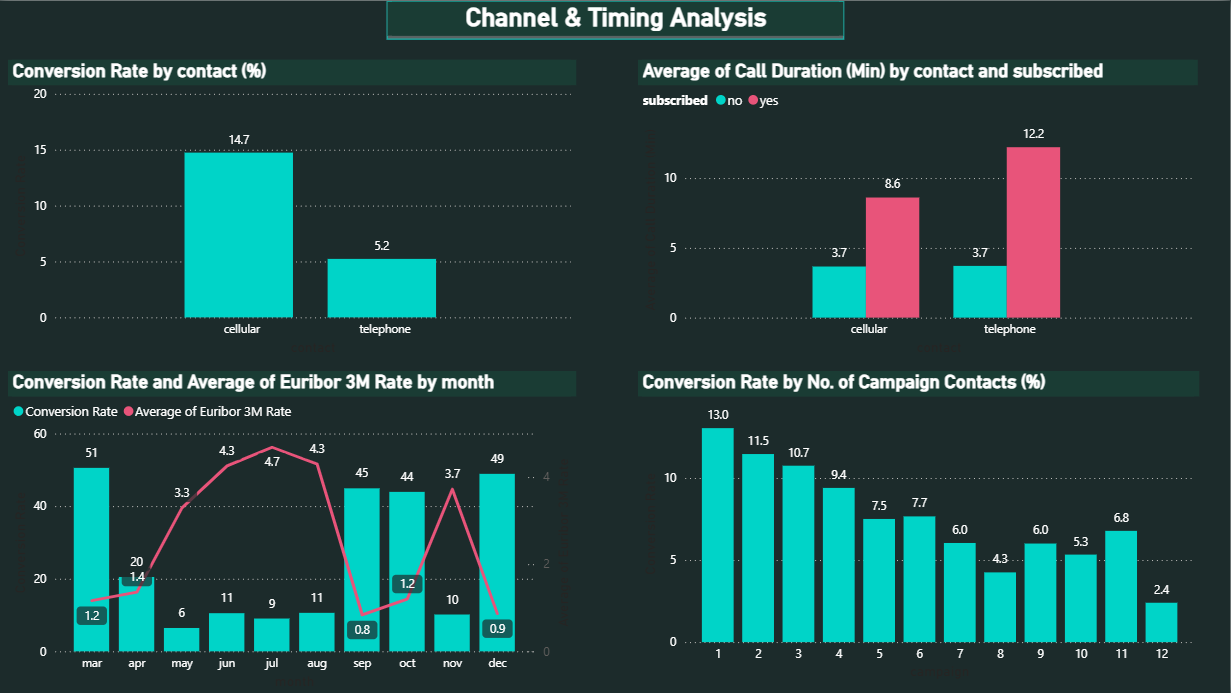

This screenshot's page, from the dashboard's own definition file:
{"tool":"powerbi","page":{"name":"Channel and Timing analysis","canvas":[1280,720],"ordinal":1},"visuals":[{"type":"clusteredColumnChart","title":"Conversion Rate by contact (%)","fields":{"Y":["bank_marketing_cleaned.Conversion Rate"],"Category":["bank_marketing_cleaned.contact"]},"box":[10,61.7,590,311.7],"z":0},{"type":"clusteredColumnChart","fields":{"Category":["bank_marketing_cleaned.contact"],"Series":["bank_marketing_cleaned.subscribed"],"Y":["Avg(bank_marketing_cleaned.Call Duration (Min))"]},"box":[665,61.7,581.7,311.7],"z":1000},{"type":"lineClusteredColumnComboChart","fields":{"Y":["bank_marketing_cleaned.Conversion Rate"],"Category":["bank_marketing_cleaned.month"],"Y2":["Avg(bank_marketing_cleaned.Euribor 3M Rate)"]},"box":[10,385,590,335],"z":2000},{"type":"clusteredColumnChart","title":"Conversion Rate by No. of Campaign Contacts (%)","fields":{"Y":["bank_marketing_cleaned.Conversion Rate"],"Category":["bank_marketing_cleaned.campaign"]},"box":[664.3,384.3,582.9,325.7],"z":3000},{"type":"textbox","title":"Channel & Timing Analysis","box":[403.3,0,475,40],"z":4000}]}

Visuals, with their boxes in screenshot pixels (x1, y1, x2, y2), scaled from the page's 1280x720 canvas onto the 1231x693 screenshot:
"Conversion Rate by contact (%)" clusteredColumnChart: <box>10,59,577,359</box>
clusteredColumnChart - bank_marketing_cleaned.contact x bank_marketing_cleaned.subscribed: <box>640,59,1199,359</box>
lineClusteredColumnComboChart - bank_marketing_cleaned.Conversion Rate x bank_marketing_cleaned.month: <box>10,371,577,692</box>
"Conversion Rate by No. of Campaign Contacts (%)" clusteredColumnChart: <box>639,370,1199,683</box>
"Channel & Timing Analysis" textbox: <box>388,0,845,38</box>
